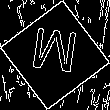M_S: (29, 27, 81, 83)
